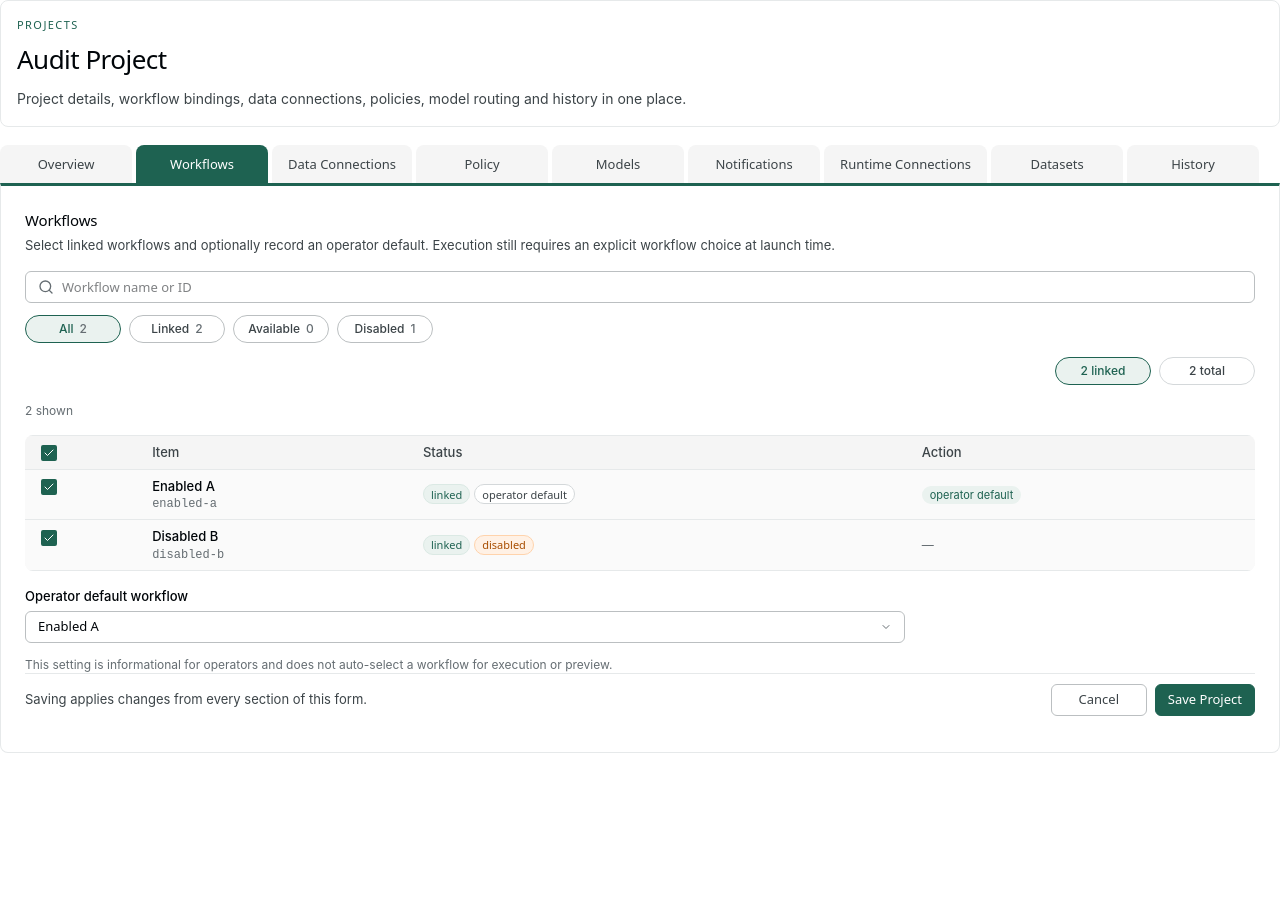
Test case: ProjectsDetailPage › preserves the operator default when unlinking an unrelated workflow
Click the checkbox named "Toggle Disabled B" at (49, 538), box [41,530,57,546]
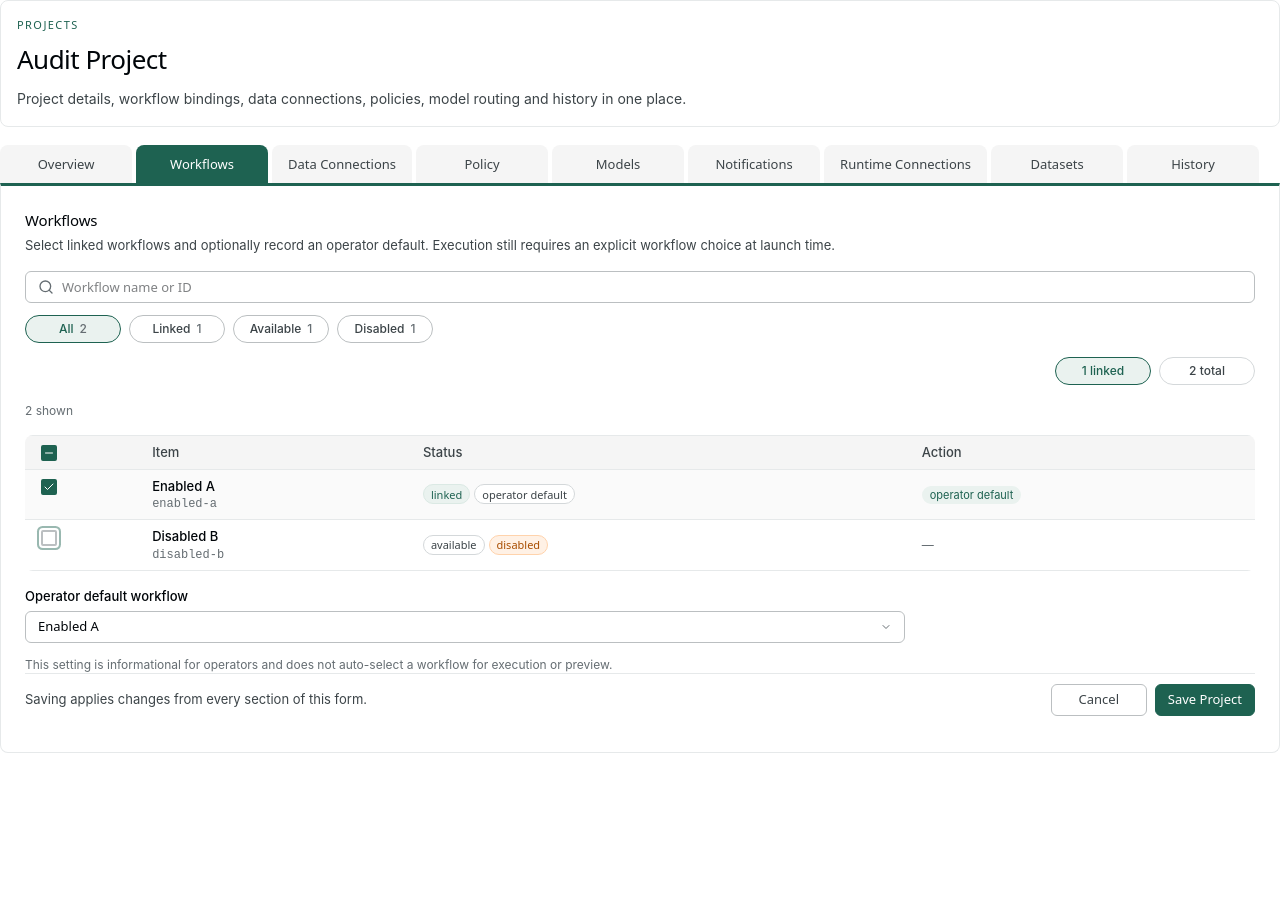
Check: the dropdown named "Operator default workflow" reads "Enabled A", box [25,611,905,643]
Click the button "Save Project" at (1205, 700), box [1155,684,1255,716]
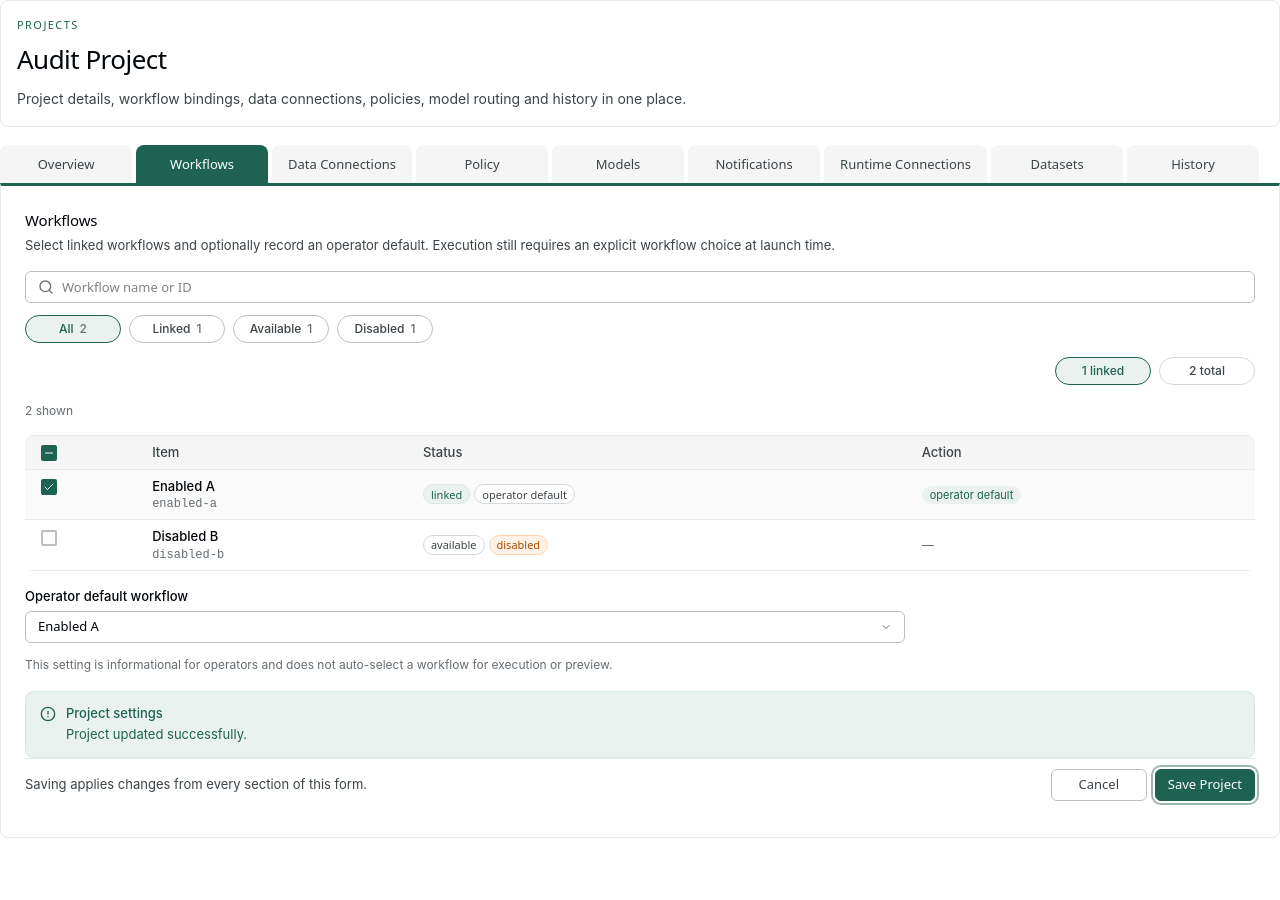
Check: the text "Project updated successfully." is shown, box [66,726,247,742]
